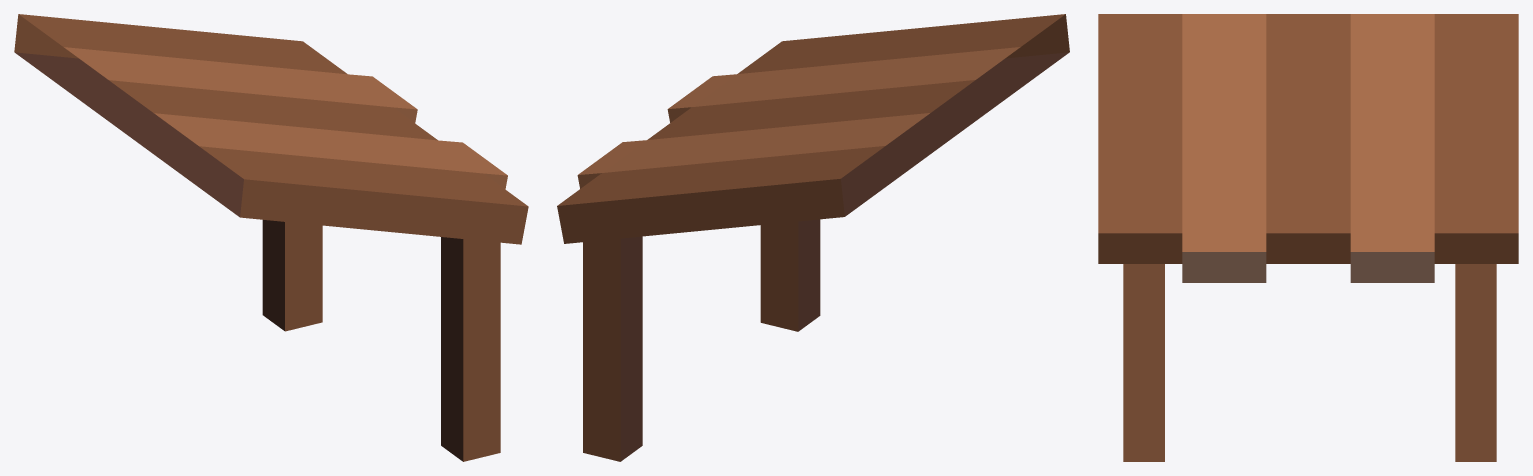
File: TB_Bd_Wood_Roof.FBX
3 renders of one model, left to right at view 1: azimuth 30°, elevation 25°; view 2: azimuth 150°, elevation 25°; view 3: azimuth 270°, elevation 25°, orthographic. The views are drawn at different scales.
Parts seen in each view (by area): view 1: TB_Bd_Wood_Roof; view 2: TB_Bd_Wood_Roof; view 3: TB_Bd_Wood_Roof.
Boxes of the visible parts, x1=… form: TB_Bd_Wood_Roof: x1=14, y1=14, x2=528, y2=461; TB_Bd_Wood_Roof: x1=557, y1=14, x2=1069, y2=461; TB_Bd_Wood_Roof: x1=1098, y1=14, x2=1518, y2=461.
Bounding box in the file's own units: 1.91 × 2.04 × 2.39.
